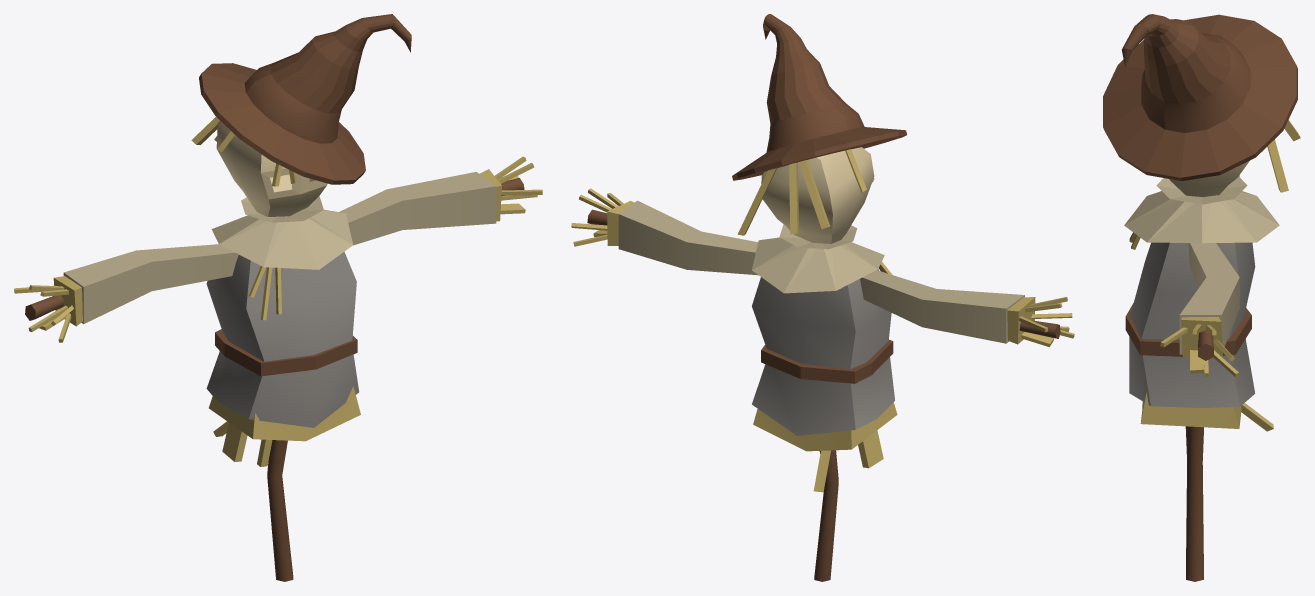
The model's file is gay.fbx.
The picture shows the model from 3 angles, left to right: view 1: azimuth 30°, elevation 25°; view 2: azimuth 150°, elevation 25°; view 3: azimuth 270°, elevation 25°; orthographic projection. The views are drawn at different scales.
Parts seen in each view (by area): view 1: polySurface4, Cone, pCube1; view 2: polySurface4, Cone, pCube1, polySurface3, polySurface2; view 3: polySurface4, Cone, pCube1, polySurface1.
Part boxes in pixels (x1,y1,x2,y2): polySurface4: (14, 156, 542, 581); Cone: (199, 14, 411, 184); pCube1: (216, 121, 327, 217); polySurface4: (571, 188, 1074, 581); Cone: (732, 14, 906, 180); pCube1: (761, 147, 874, 243); polySurface3: (798, 160, 830, 228); polySurface2: (789, 162, 798, 234); polySurface4: (1124, 175, 1279, 581); Cone: (1103, 14, 1297, 181); pCube1: (1169, 160, 1249, 196); polySurface1: (1267, 139, 1288, 192).
Bounding box in the file's own units: 44.49 × 45.94 × 13.81.
